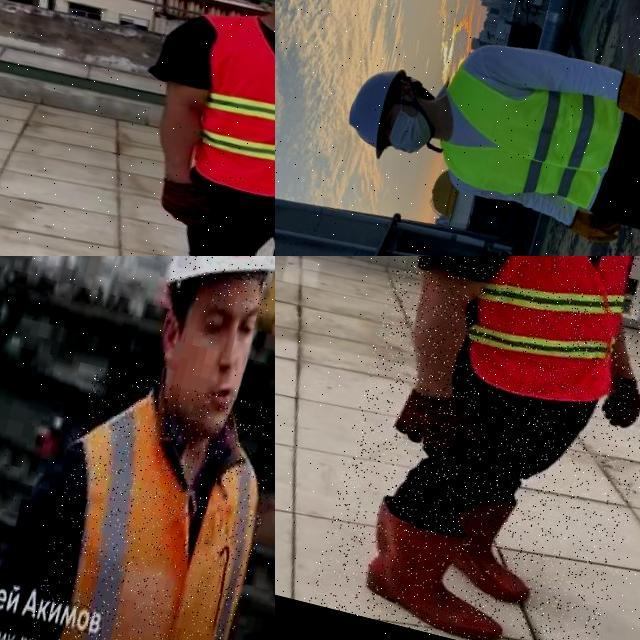boots: (350, 497, 524, 640), (442, 490, 548, 604)
helmet: (332, 56, 416, 167), (163, 256, 275, 317)
vest: (6, 363, 275, 640), (427, 56, 628, 215), (450, 256, 640, 411), (174, 9, 275, 220)
